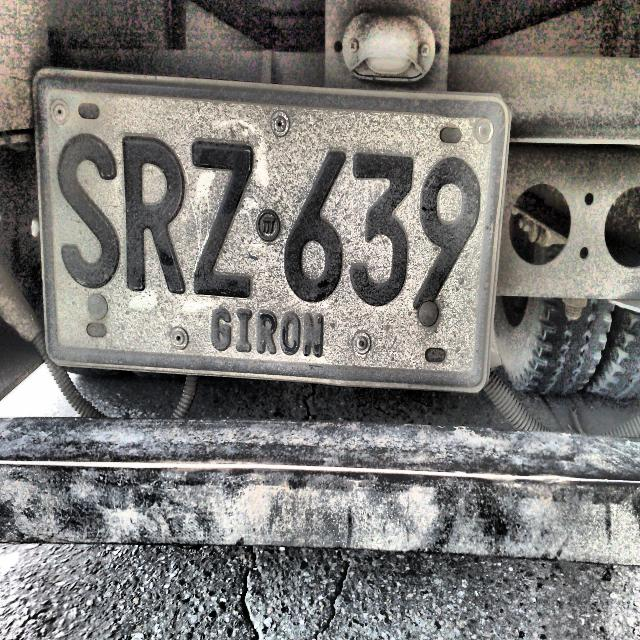plate: (37, 81, 500, 382)
